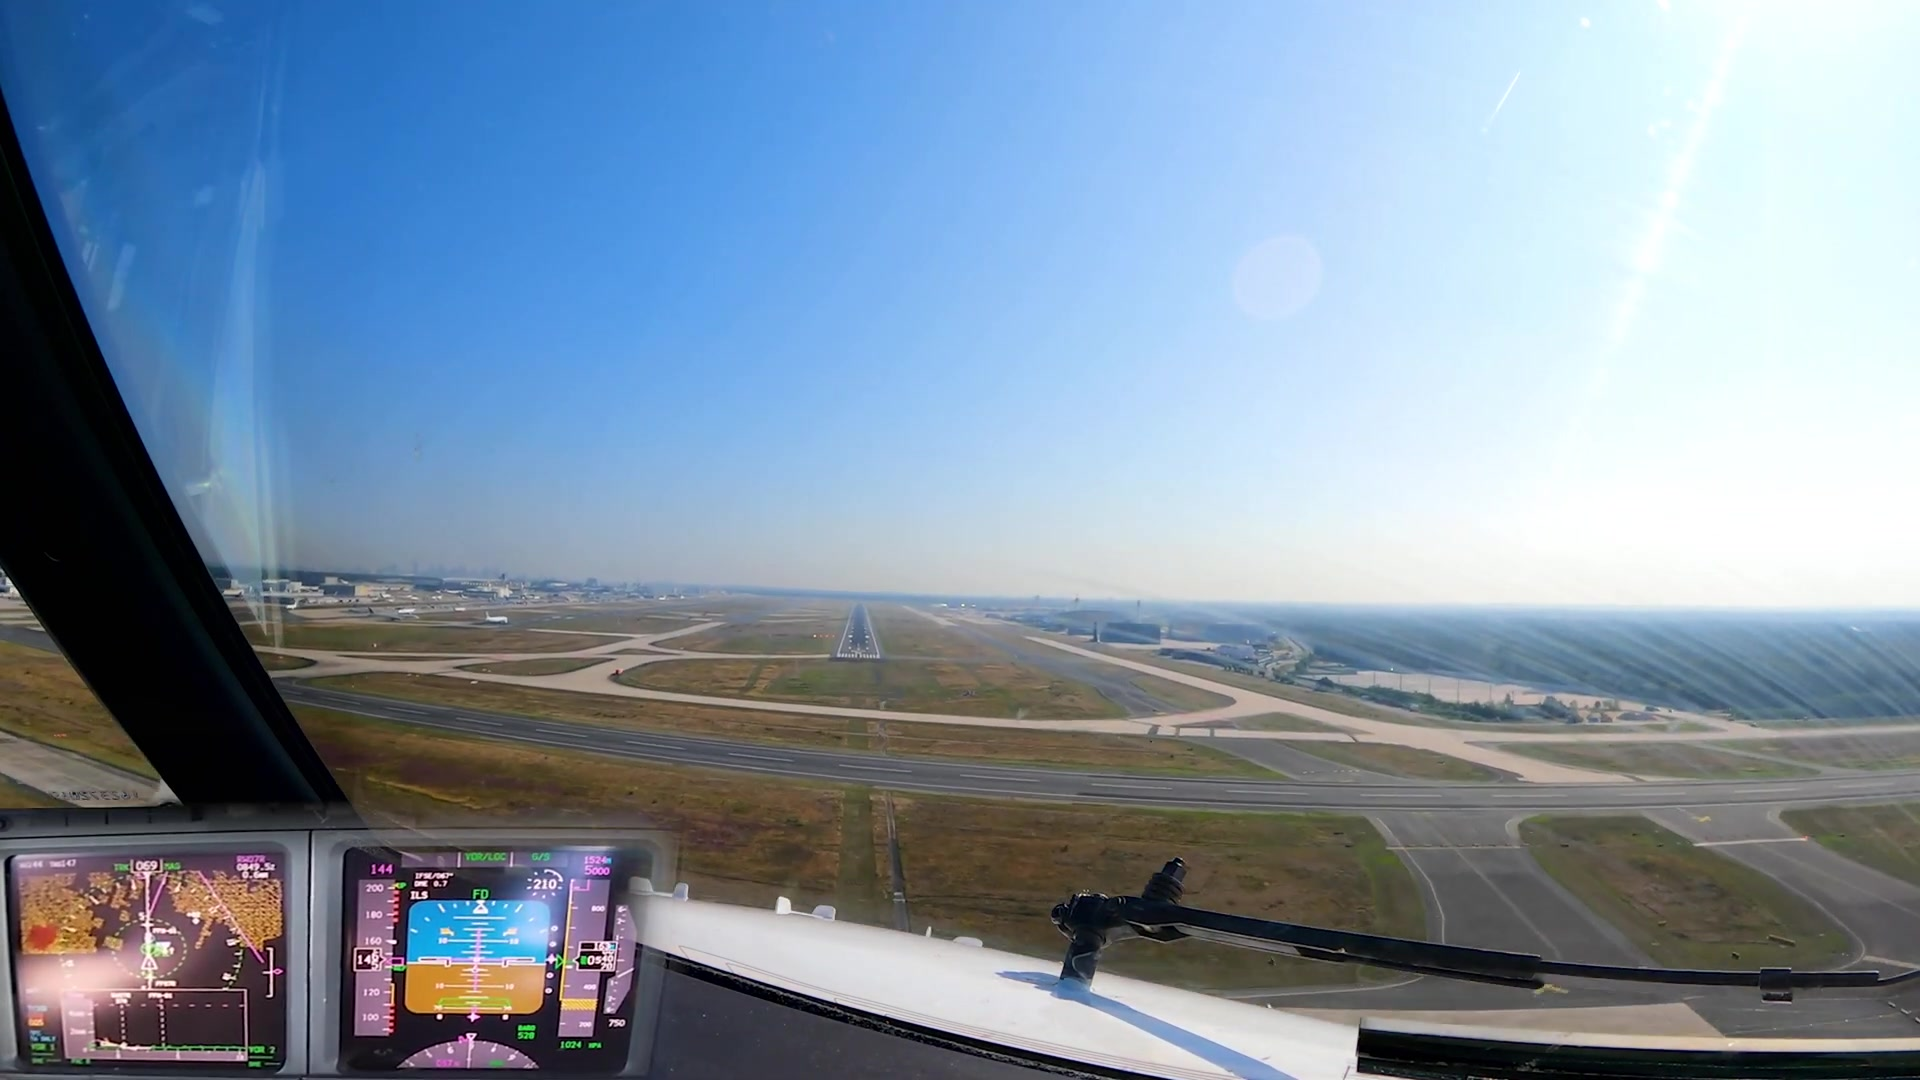entrance: (837, 651, 880, 658)
runway: (835, 601, 884, 661)
